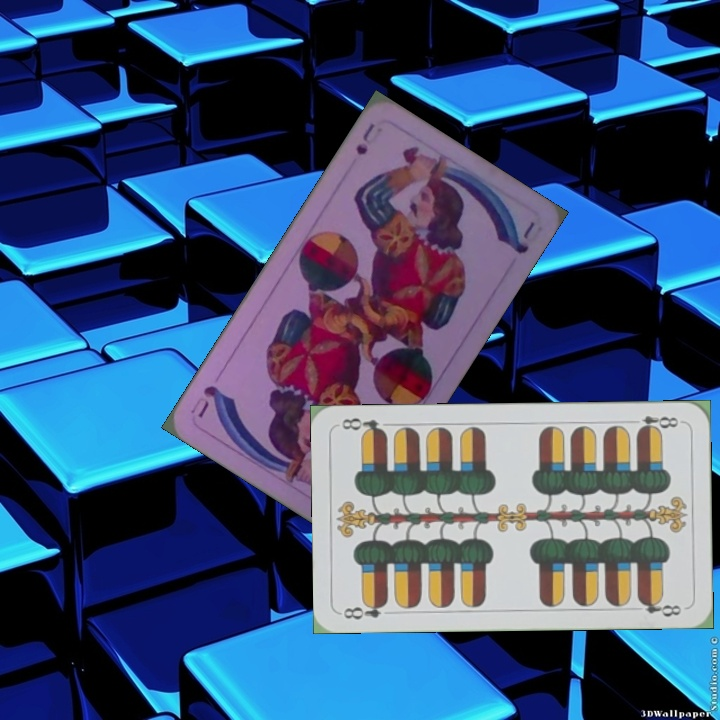E8: (625, 412, 684, 435), (339, 597, 390, 623)
SU: (351, 119, 378, 158)
